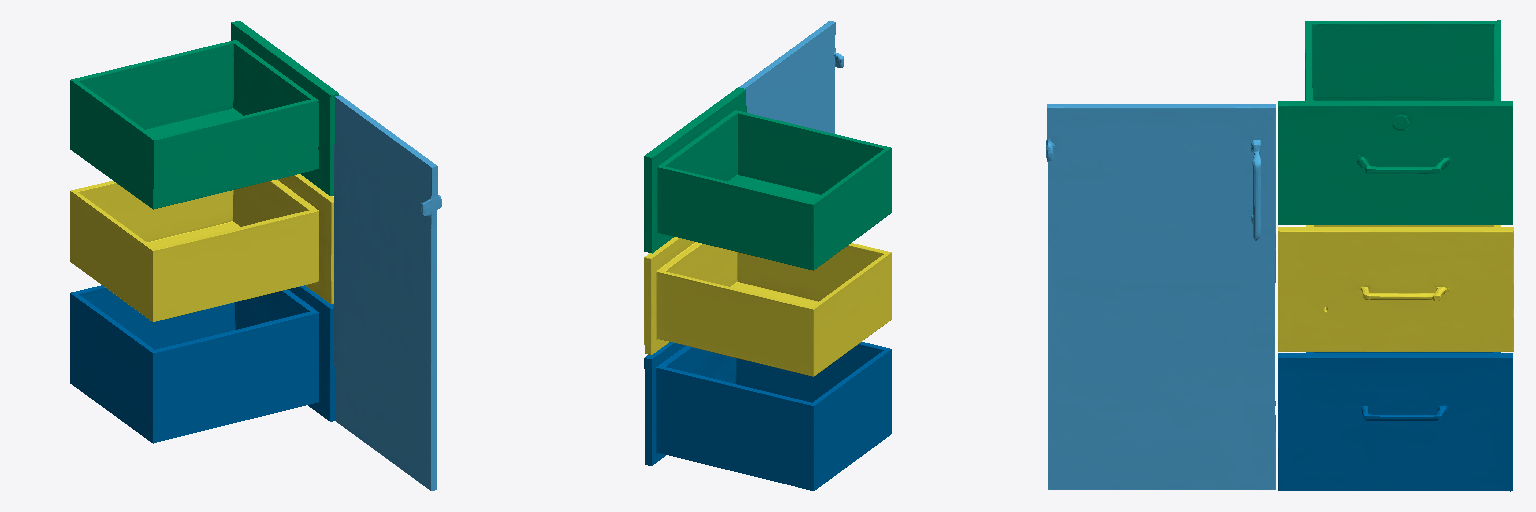
The robot description file, URDF, robot "link_robot":
<?xml version="1.0"?>
<robot name="link_robot">
  <link name="base_0">
    <inertial>
      <origin xyz="-0.008727 -0.000038 0.004182" rpy="0 0 0" />
      <mass value="1.000000" />
      <inertia ixx="0.058038" iyy="0.037944" izz="0.039906" ixy="0.0" ixz="0.0" iyz="0.0" />
    </inertial>
    <visual>
      <origin xyz="-0.000000 -0.000000 -0.000000" rpy="0 0 0" />
      <geometry>
        <mesh filename="../dae/base_0/base_0.dae" scale="0.546409536 0.599129190 0.587746618" />
      </geometry>
    </visual>
    <collision name="cabinet_back_panel">
      <origin xyz="-0.163 0.000 0.021" rpy="0 0 0" />
      <geometry>
        <box size="0.016 0.580 0.516" />
      </geometry>
    </collision>
    <collision name="cabinet_left_side_panel">
      <origin xyz="-0.013 -0.285 0.021" rpy="0 0 0" />
      <geometry>
        <box size="0.313 0.030 0.517" />
      </geometry>
    </collision>
    <collision name="cabinet_right_side_panel">
      <origin xyz="-0.013 0.285 0.021" rpy="0 0 0" />
      <geometry>
        <box size="0.313 0.030 0.517" />
      </geometry>
    </collision>
    <collision name="cabinet_center_panel">
      <origin xyz="-0.012 0.003 0.023" rpy="0 0 0" />
      <geometry>
        <box size="0.295 0.034 0.517" />
      </geometry>
    </collision>
    <collision name="cabinet_top_panel">
      <origin xyz="-0.009 0.000 0.280" rpy="0 0 0" />
      <geometry>
        <box size="0.344 0.600 0.029" />
      </geometry>
    </collision>
    <collision name="cabinet_bottom_panel">
      <origin xyz="-0.009 0.000 -0.238" rpy="0 0 0" />
      <geometry>
        <box size="0.344 0.600 0.020" />
      </geometry>
    </collision>
    <collision name="cabinet_upper_drawer_rail">
      <origin xyz="0.128 0.145 0.111" rpy="0 0 0" />
      <geometry>
        <box size="0.020 0.260 0.020" />
      </geometry>
    </collision>
    <collision name="cabinet_lower_drawer_rail">
      <origin xyz="0.128 0.145 -0.051" rpy="0 0 0" />
      <geometry>
        <box size="0.020 0.260 0.020" />
      </geometry>
    </collision>
    <collision name="cabinet_front_left_foot">
      <origin xyz="0.135 -0.260 -0.267" rpy="0 0 0" />
      <geometry>
        <box size="0.040 0.050 0.038" />
      </geometry>
    </collision>
    <collision name="cabinet_front_right_foot">
      <origin xyz="0.135 0.260 -0.267" rpy="0 0 0" />
      <geometry>
        <box size="0.040 0.050 0.038" />
      </geometry>
    </collision>
    <collision name="cabinet_back_left_foot">
      <origin xyz="-0.145 -0.260 -0.267" rpy="0 0 0" />
      <geometry>
        <box size="0.040 0.050 0.038" />
      </geometry>
    </collision>
    <collision name="cabinet_back_right_foot">
      <origin xyz="-0.145 0.260 -0.267" rpy="0 0 0" />
      <geometry>
        <box size="0.040 0.050 0.038" />
      </geometry>
    </collision>
  </link>
  <link name="door_1">
    <inertial>
      <origin xyz="0.024528 0.136634 -0.085056" rpy="0 0 0" />
      <mass value="1.000000" />
      <inertia ixx="0.027232" iyy="0.021209" izz="0.006424" ixy="0.0" ixz="0.0" iyz="0.0" />
    </inertial>
    <visual>
      <origin xyz="-0.119816 0.275279 -0.104384" rpy="0 0 0" />
      <geometry>
        <mesh filename="../dae/door_1/door_1.dae" scale="0.546409536 0.599129190 0.587746618" />
      </geometry>
    </visual>
    <collision name="door_panel_collision">
      <origin xyz="0.0202 0.1366 -0.0850" rpy="0 0 0" />
      <geometry>
        <box size="0.014 0.274 0.503" />
      </geometry>
    </collision>
    <collision name="door_handle_grip">
      <origin xyz="0.0460 0.249724 0.061438" rpy="0 0 0" />
      <geometry>
        <box size="0.009 0.012 0.110" />
      </geometry>
    </collision>
    <collision name="door_handle_lower_mount">
      <origin xyz="0.0345 0.249724 0.004438" rpy="0 0 0" />
      <geometry>
        <box size="0.023 0.012 0.012" />
      </geometry>
    </collision>
    <collision name="door_handle_upper_mount">
      <origin xyz="0.0345 0.249724 0.118438" rpy="0 0 0" />
      <geometry>
        <box size="0.023 0.012 0.012" />
      </geometry>
    </collision>
  </link>
  <link name="drawer_1">
    <inertial>
      <origin xyz="-0.152186 -0.000001 0.000001" rpy="0 0 0" />
      <mass value="1.000000" />
      <inertia ixx="0.008583" iyy="0.009777" izz="0.014248" ixy="0.0" ixz="0.0" iyz="0.0" />
    </inertial>
    <visual>
      <origin xyz="-0.000000 -0.000000 -0.000000" rpy="0 0 0" />
      <geometry>
        <mesh filename="../dae/drawer_1/drawer_1.dae" scale="0.546409536 0.599129190 0.587746618" />
      </geometry>
    </visual>
    <collision name="drawer_1_front_panel">
      <origin xyz="-0.028 0.000 0.000" rpy="0 0 0" />
      <geometry>
        <box size="0.016 0.280 0.157" />
      </geometry>
    </collision>
    <collision name="drawer_1_bottom_panel">
      <origin xyz="-0.169 0.009 -0.049" rpy="0 0 0" />
      <geometry>
        <box size="0.270 0.234 0.006" />
      </geometry>
    </collision>
    <collision name="drawer_1_back_panel">
      <origin xyz="-0.3035 0.009 0.004" rpy="0 0 0" />
      <geometry>
        <box size="0.007 0.234 0.110" />
      </geometry>
    </collision>
    <collision name="drawer_1_left_panel">
      <origin xyz="-0.169 -0.107 0.004" rpy="0 0 0" />
      <geometry>
        <box size="0.270 0.006 0.110" />
      </geometry>
    </collision>
    <collision name="drawer_1_right_panel">
      <origin xyz="-0.169 0.126 0.004" rpy="0 0 0" />
      <geometry>
        <box size="0.270 0.006 0.110" />
      </geometry>
    </collision>
    <collision name="drawer_1_handle_grip">
      <origin xyz="-0.0030 0.009720 0.004263" rpy="0 0 0" />
      <geometry>
        <box size="0.008 0.101 0.010" />
      </geometry>
    </collision>
    <collision name="drawer_1_handle_left_mount">
      <origin xyz="-0.0115 -0.038780 0.004263" rpy="0 0 0" />
      <geometry>
        <box size="0.021 0.014 0.014" />
      </geometry>
    </collision>
    <collision name="drawer_1_handle_right_mount">
      <origin xyz="-0.0115 0.058220 0.004263" rpy="0 0 0" />
      <geometry>
        <box size="0.021 0.014 0.014" />
      </geometry>
    </collision>
  </link>
  <link name="drawer_2">
    <inertial>
      <origin xyz="-0.152252 0.000037 -0.000010" rpy="0 0 0" />
      <mass value="1.000000" />
      <inertia ixx="0.008669" iyy="0.009823" izz="0.014295" ixy="0.0" ixz="0.0" iyz="0.0" />
    </inertial>
    <visual>
      <origin xyz="-0.000000 -0.000000 -0.000000" rpy="0 0 0" />
      <geometry>
        <mesh filename="../dae/drawer_2/drawer_2.dae" scale="0.546409536 0.599129190 0.587746618" />
      </geometry>
    </visual>
    <collision name="drawer_2_front_panel">
      <origin xyz="-0.028 0.000 0.000" rpy="0 0 0" />
      <geometry>
        <box size="0.016 0.281 0.159" />
      </geometry>
    </collision>
    <collision name="drawer_2_bottom_panel">
      <origin xyz="-0.169 0.009 -0.057" rpy="0 0 0" />
      <geometry>
        <box size="0.270 0.233 0.006" />
      </geometry>
    </collision>
    <collision name="drawer_2_back_panel">
      <origin xyz="-0.304 0.009 -0.002" rpy="0 0 0" />
      <geometry>
        <box size="0.007 0.233 0.112" />
      </geometry>
    </collision>
    <collision name="drawer_2_left_panel">
      <origin xyz="-0.169 -0.107 -0.002" rpy="0 0 0" />
      <geometry>
        <box size="0.270 0.006 0.112" />
      </geometry>
    </collision>
    <collision name="drawer_2_right_panel">
      <origin xyz="-0.169 0.125 -0.002" rpy="0 0 0" />
      <geometry>
        <box size="0.270 0.006 0.112" />
      </geometry>
    </collision>
    <collision name="drawer_2_handle_grip">
      <origin xyz="-0.0030 0.009268 0.002335" rpy="0 0 0" />
      <geometry>
        <box size="0.008 0.095 0.008" />
      </geometry>
    </collision>
    <collision name="drawer_2_handle_left_mount">
      <origin xyz="-0.0120 -0.036232 0.002335" rpy="0 0 0" />
      <geometry>
        <box size="0.022 0.014 0.009" />
      </geometry>
    </collision>
    <collision name="drawer_2_handle_right_mount">
      <origin xyz="-0.0120 0.054768 0.002335" rpy="0 0 0" />
      <geometry>
        <box size="0.022 0.014 0.009" />
      </geometry>
    </collision>
  </link>
  <link name="drawer_3">
    <inertial>
      <origin xyz="-0.151711 0.000001 0.000008" rpy="0 0 0" />
      <mass value="1.000000" />
      <inertia ixx="0.009102" iyy="0.010249" izz="0.014192" ixy="0.0" ixz="0.0" iyz="0.0" />
    </inertial>
    <visual>
      <origin xyz="-0.000000 -0.000000 -0.000000" rpy="0 0 0" />
      <geometry>
        <mesh filename="../dae/drawer_3/drawer_3.dae" scale="0.546409536 0.599129190 0.587746618" />
      </geometry>
    </visual>
    <collision name="drawer_3_front_panel">
      <origin xyz="-0.027 0.000 0.000" rpy="0 0 0" />
      <geometry>
        <box size="0.016 0.280 0.176" />
      </geometry>
    </collision>
    <collision name="drawer_3_bottom_panel">
      <origin xyz="-0.169 0.009 -0.071" rpy="0 0 0" />
      <geometry>
        <box size="0.271 0.234 0.006" />
      </geometry>
    </collision>
    <collision name="drawer_3_back_panel">
      <origin xyz="-0.303 0.009 -0.003" rpy="0 0 0" />
      <geometry>
        <box size="0.007 0.234 0.140" />
      </geometry>
    </collision>
    <collision name="drawer_3_left_panel">
      <origin xyz="-0.169 -0.107 -0.003" rpy="0 0 0" />
      <geometry>
        <box size="0.271 0.006 0.140" />
      </geometry>
    </collision>
    <collision name="drawer_3_right_panel">
      <origin xyz="-0.169 0.125 -0.003" rpy="0 0 0" />
      <geometry>
        <box size="0.271 0.006 0.140" />
      </geometry>
    </collision>
    <collision name="drawer_3_handle_grip">
      <origin xyz="-0.0030 0.010112 0.018757" rpy="0 0 0" />
      <geometry>
        <box size="0.008 0.096 0.008" />
      </geometry>
    </collision>
    <collision name="drawer_3_handle_left_mount">
      <origin xyz="-0.0115 -0.035888 0.018757" rpy="0 0 0" />
      <geometry>
        <box size="0.021 0.014 0.0105" />
      </geometry>
    </collision>
    <collision name="drawer_3_handle_right_mount">
      <origin xyz="-0.0115 0.056112 0.018757" rpy="0 0 0" />
      <geometry>
        <box size="0.021 0.014 0.0105" />
      </geometry>
    </collision>
  </link>
  <joint name="door_joint_1" type="revolute">
    <parent link="base_0" />
    <child link="door_1" />
    <origin xyz="0.119816 -0.275279 0.104384" rpy="0 0 0" />
    <axis xyz="0.000000 0.000000 1.000000" />
    <limit lower="-1.379034" upper="0.000000" effort="50.000000" velocity="1.000000" />
  </joint>
  <joint name="drawer_joint_1" type="prismatic">
    <parent link="base_0" />
    <child link="drawer_1" />
    <origin xyz="0.164706 0.139857 0.193753" rpy="0 0 0" />
    <axis xyz="-0.999816 -0.018917 0.003302" />
    <limit lower="-0.22" upper="0.000000" effort="50.000000" velocity="0.546426" />
  </joint>
  <joint name="drawer_joint_2" type="prismatic">
    <parent link="base_0" />
    <child link="drawer_2" />
    <origin xyz="0.165042 0.140160 0.027481" rpy="0 0 0" />
    <axis xyz="-0.999879 -0.014008 0.006779" />
    <limit lower="-0.22" upper="0.000000" effort="50.000000" velocity="0.546421" />
  </joint>
  <joint name="drawer_joint_3" type="prismatic">
    <parent link="base_0" />
    <child link="drawer_3" />
    <origin xyz="0.163554 0.139967 -0.145939" rpy="0 0 0" />
    <axis xyz="-0.999955 -0.009328 0.001932" />
    <limit lower="-0.22" upper="0.000000" effort="50.000000" velocity="0.546414" />
  </joint>
</robot>

--- What the picture shows (computed from the rendered views, not written in the file) ---
The picture shows the robot from 3 angles, left to right: view 1: azimuth 30°, elevation 25°; view 2: azimuth 150°, elevation 25°; view 3: azimuth 270°, elevation 25°; orthographic projection.
Model link_robot with 5 links and 4 joints (1 revolute, 3 prismatic), rooted at base_0, posed every joint at zero.
Links seen in each view (by area): view 1: drawer_1, door_1, drawer_3, drawer_2; view 2: drawer_1, drawer_3, drawer_2, door_1; view 3: door_1, drawer_1, drawer_3, drawer_2.
Boxes of the visible links, bbox=[...] form: drawer_1: bbox=[70, 21, 338, 209]; door_1: bbox=[334, 95, 441, 490]; drawer_3: bbox=[70, 285, 334, 443]; drawer_2: bbox=[70, 174, 333, 321]; drawer_1: bbox=[644, 87, 891, 270]; drawer_3: bbox=[644, 342, 891, 490]; drawer_2: bbox=[644, 237, 891, 376]; door_1: bbox=[740, 21, 843, 133]; door_1: bbox=[1046, 104, 1275, 489]; drawer_1: bbox=[1278, 20, 1512, 224]; drawer_3: bbox=[1278, 352, 1512, 491]; drawer_2: bbox=[1278, 225, 1513, 351].
Bounding box of the posed robot: 0.3087 × 0.5559 × 0.5062 m (x, y, z).
Meshes: 5 distinct files referenced, 4 mesh visuals loaded (4 Collada DAE); not drawn: 1 (reference not matched to a file when rendering).
